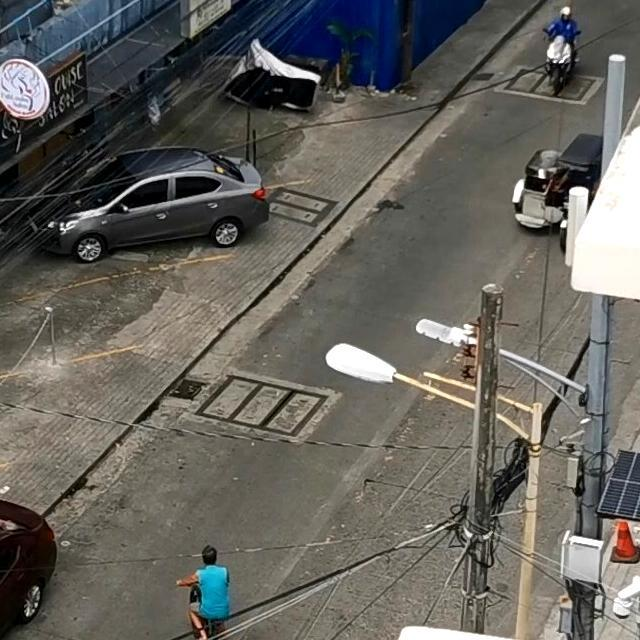Motorcycle: (521, 0, 599, 97)
